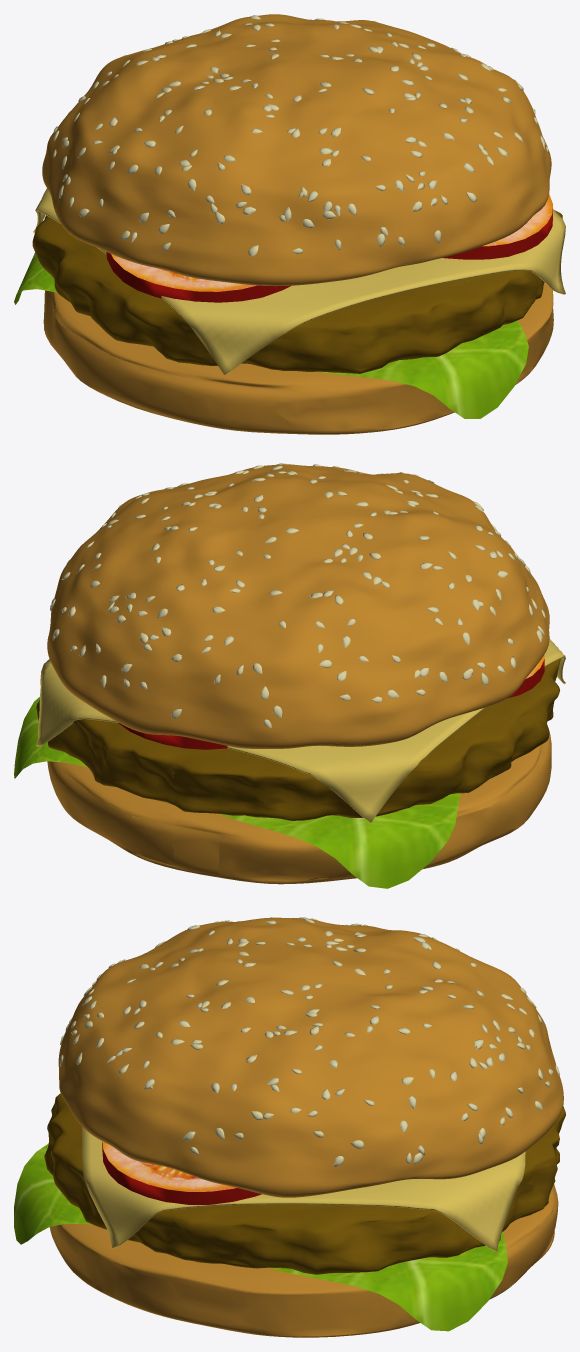
The model's file is FullHamburger.fbx.
3 views of the same model, one above another, from view 1: azimuth 30°, elevation 25°; view 2: azimuth 150°, elevation 25°; view 3: azimuth 270°, elevation 25° (orthographic).
Parts seen in each view (by area): view 1: Cylinder.014, Cylinder.003, Cylinder.002, Plane, Sphere.450, Plane.003, Cylinder.007, Cylinder.005, Plane.002; view 2: Cylinder.014, Cylinder.003, Cylinder.002, Plane, Plane.002, Sphere.450, Plane.001, Cylinder; view 3: Cylinder.014, Cylinder.003, Cylinder.002, Plane, Plane.001, Sphere.450, Cylinder.005, Plane.003.
Part boxes in pixels (bbox=[...]): Cylinder.014: bbox=[42, 14, 551, 286]; Cylinder.003: bbox=[32, 210, 562, 373]; Cylinder.002: bbox=[43, 282, 553, 434]; Plane: bbox=[33, 188, 565, 375]; Sphere.450: bbox=[53, 15, 548, 256]; Plane.003: bbox=[317, 281, 528, 418]; Cylinder.007: bbox=[106, 252, 291, 302]; Cylinder.005: bbox=[442, 194, 552, 259]; Plane.002: bbox=[14, 252, 57, 304]; Cylinder.014: bbox=[47, 464, 549, 748]; Cylinder.003: bbox=[36, 659, 560, 820]; Cylinder.002: bbox=[47, 733, 551, 884]; Plane: bbox=[35, 639, 565, 822]; Plane.002: bbox=[220, 793, 460, 888]; Sphere.450: bbox=[50, 463, 545, 728]; Plane.001: bbox=[14, 697, 173, 778]; Cylinder: bbox=[118, 723, 228, 749]; Cylinder.014: bbox=[58, 917, 563, 1197]; Cylinder.003: bbox=[44, 1093, 565, 1274]; Cylinder.002: bbox=[49, 1184, 558, 1337]; Plane: bbox=[81, 1126, 525, 1251]; Plane.001: bbox=[268, 1231, 507, 1331]; Sphere.450: bbox=[60, 917, 559, 1166]; Cylinder.005: bbox=[102, 1141, 261, 1204]; Plane.003: bbox=[14, 1143, 92, 1244].
Size of the model in its own units: 103 by 59.88 by 108.
